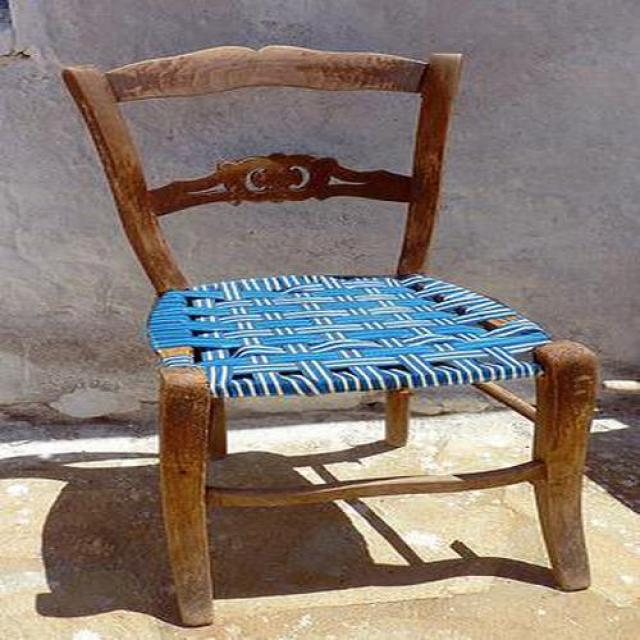chair: (61, 45, 599, 628)
